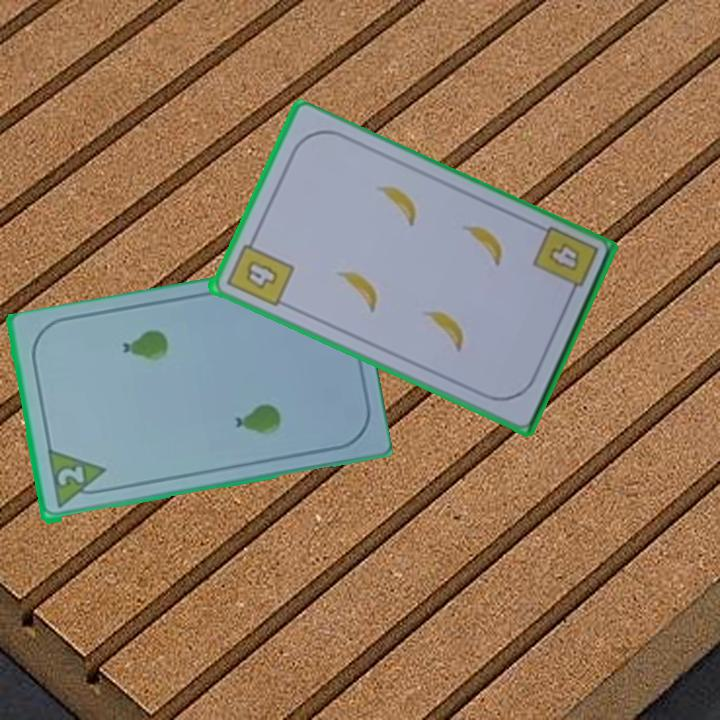2p: (44, 448, 111, 512)
4b: (222, 232, 296, 310), (544, 239, 582, 271)
